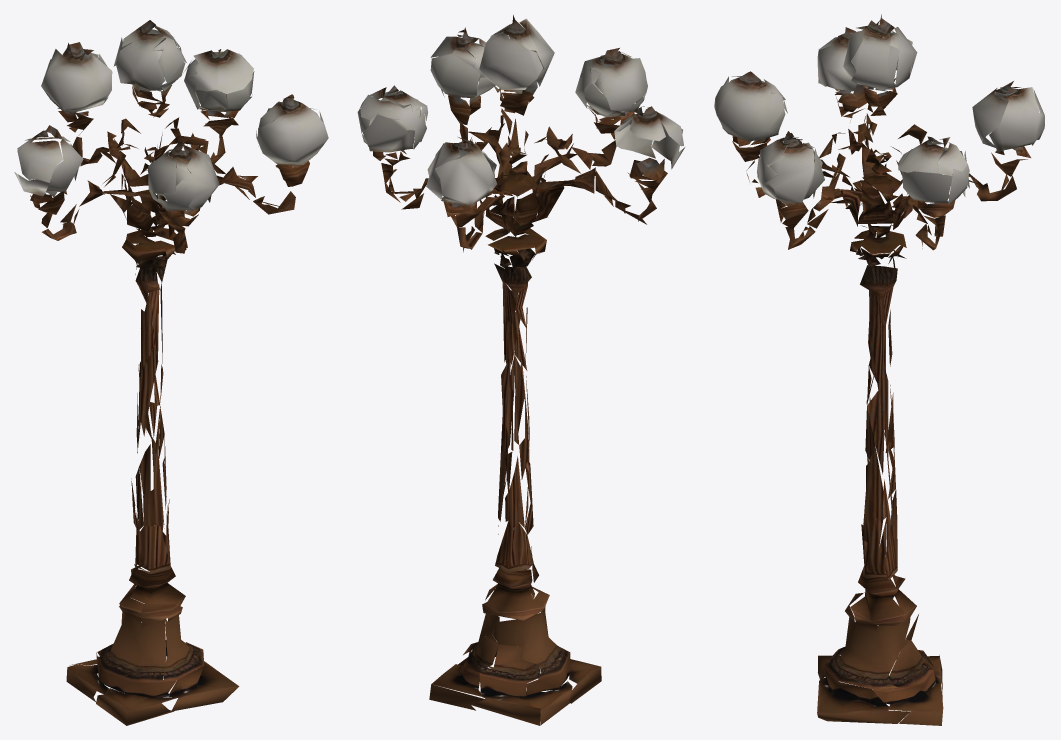
File: penn_lamp.glb
3 renders of one model, left to right at view 1: azimuth 30°, elevation 25°; view 2: azimuth 150°, elevation 25°; view 3: azimuth 270°, elevation 25°, orthographic.
Parts seen in each view (by area): view 1: tripo_node_993a0911-d772-47ab-ae7f-9a399ea19fe4; view 2: tripo_node_993a0911-d772-47ab-ae7f-9a399ea19fe4; view 3: tripo_node_993a0911-d772-47ab-ae7f-9a399ea19fe4.
Boxes of the visible parts, x1=… form: tripo_node_993a0911-d772-47ab-ae7f-9a399ea19fe4: x1=14, y1=20, x2=328, y2=725; tripo_node_993a0911-d772-47ab-ae7f-9a399ea19fe4: x1=357, y1=15, x2=684, y2=725; tripo_node_993a0911-d772-47ab-ae7f-9a399ea19fe4: x1=714, y1=14, x2=1044, y2=725.
Size of the model in its own units: 0.4276 by 1 by 0.4396.
Materials: 1 (1 with a texture image).
